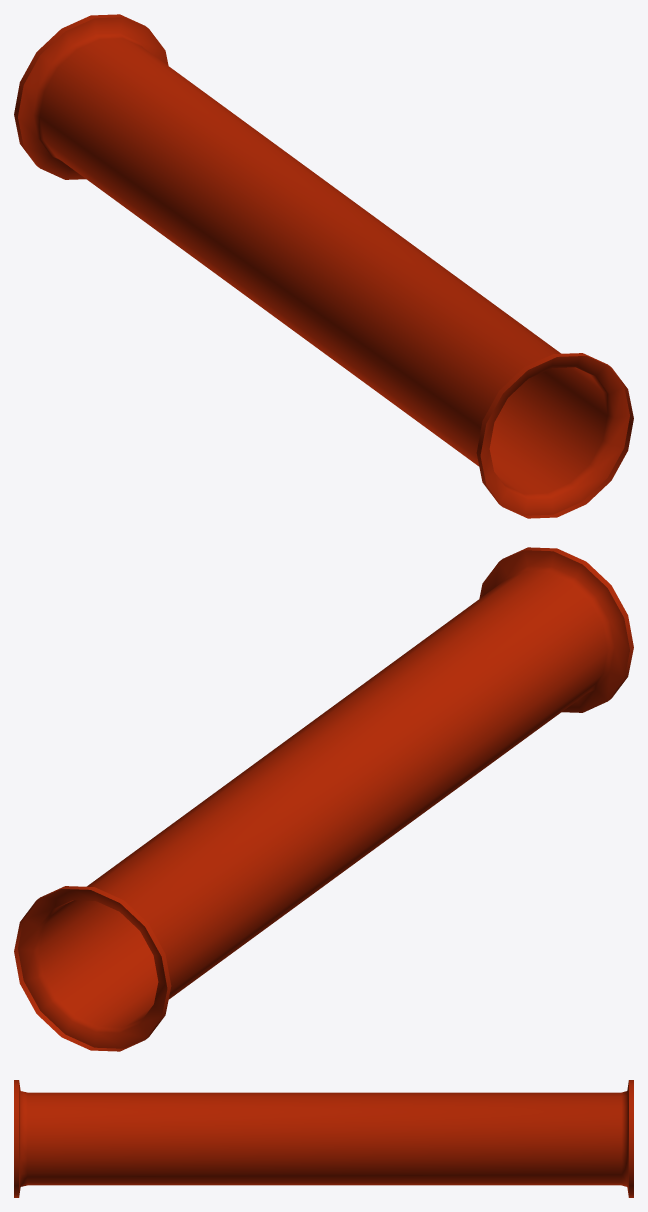
The model's file is sPipe_02_LOD0.FBX.
The picture shows the model from 3 angles, top to bottom: view 1: azimuth 30°, elevation 25°; view 2: azimuth 150°, elevation 25°; view 3: azimuth 270°, elevation 25°; orthographic projection. The views are drawn at different scales.
Visible parts, largest first — view 1: Pipe_up1_002_Low_LOD0; view 2: Pipe_up1_002_Low_LOD0; view 3: Pipe_up1_002_Low_LOD0.
Boxes of the visible parts, box(x1,y1,x2,y2) form: Pipe_up1_002_Low_LOD0: box(14, 14, 633, 518); Pipe_up1_002_Low_LOD0: box(14, 547, 633, 1051); Pipe_up1_002_Low_LOD0: box(14, 1080, 633, 1197).
Size of the model in its own units: 19 by 19 by 100.
